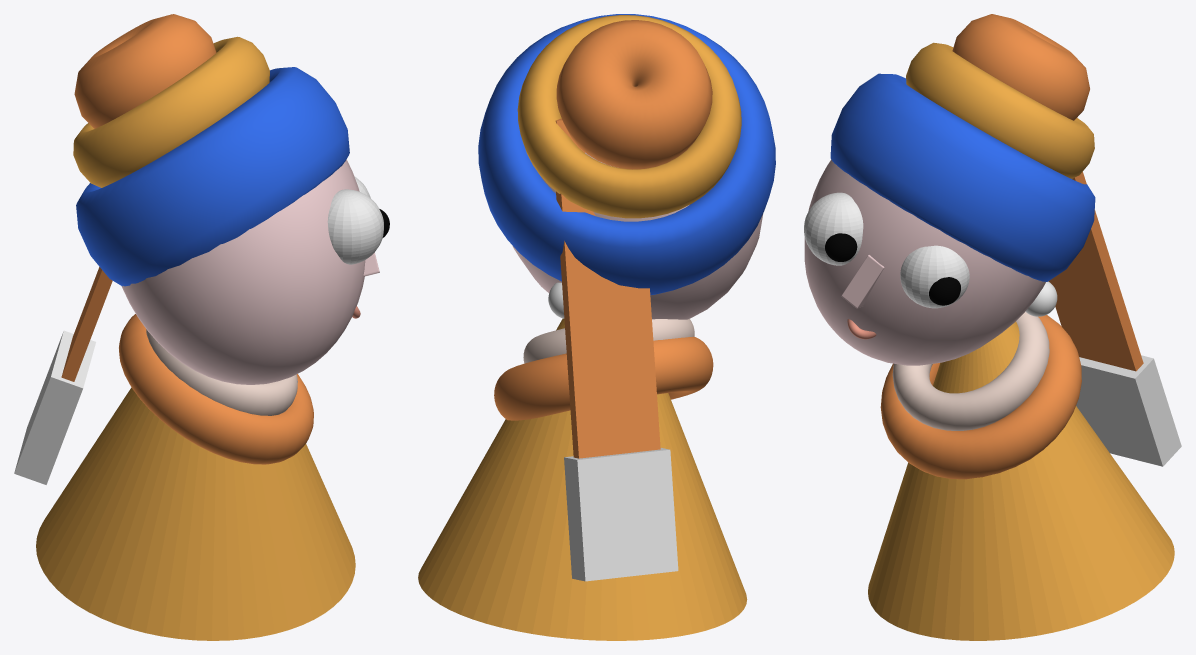
File: girl.glb
3 renders of one model, left to right at view 1: azimuth 30°, elevation 25°; view 2: azimuth 150°, elevation 25°; view 3: azimuth 270°, elevation 25°, orthographic. The views are drawn at different scales.
Parts seen in each view (by area): view 1: Cone, Torus, Sphere, Torus.001, Torus.010, Torus.006, Cube.001, Torus.002, Sphere.002, Cube.002; view 2: Cone, Torus, Torus.006, Torus.001, Cube.002, Cube.001, Torus.010, Sphere, Torus.002; view 3: Cone, Torus, Sphere, Torus.010, Torus.001, Torus.006, Cube.001, Torus.002, Cube.002, Sphere.001, Sphere.002, Cube (+3 smaller).
Part boxes in pixels (box(x1,y1,x2,y2)): Cone: box(36, 387, 355, 640); Torus: box(76, 67, 349, 286); Sphere: box(121, 159, 365, 384); Torus.001: box(73, 36, 269, 187); Torus.010: box(119, 314, 313, 464); Torus.006: box(74, 14, 216, 128); Cube.001: box(14, 330, 95, 484); Torus.002: box(146, 329, 297, 415); Sphere.002: box(327, 189, 383, 264); Cube.002: box(61, 267, 112, 381); Cone: box(418, 318, 747, 640); Torus: box(478, 14, 775, 295); Torus.006: box(556, 20, 712, 169); Torus.001: box(517, 15, 741, 218); Cube.002: box(555, 118, 660, 458); Cube.001: box(564, 448, 678, 581); Torus.010: box(494, 336, 713, 420); Sphere: box(512, 152, 763, 319); Torus.002: box(523, 319, 694, 363); Cone: box(868, 321, 1174, 640); Torus: box(830, 73, 1095, 281); Sphere: box(804, 159, 1045, 365); Torus.010: box(880, 315, 1081, 479); Torus.001: box(906, 42, 1094, 178); Torus.006: box(952, 14, 1089, 120); Cube.001: box(1076, 355, 1181, 466); Torus.002: box(892, 311, 1049, 430); Cube.002: box(1048, 172, 1143, 371); Sphere.001: box(900, 245, 969, 308); Sphere.002: box(804, 192, 863, 265); Cube: box(841, 255, 884, 308).
Size of the model in its own units: 2.67 by 5.24 by 3.26.
